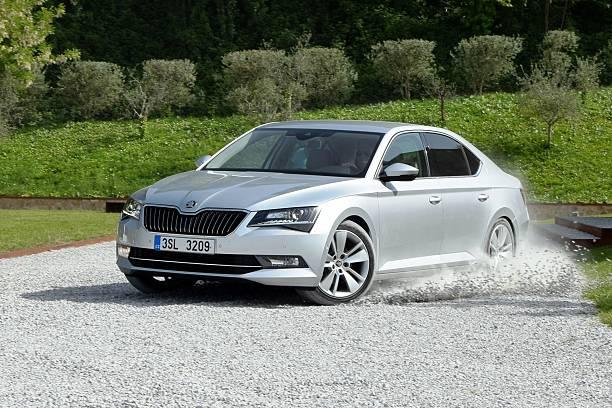skoda: (183, 197, 199, 212)
